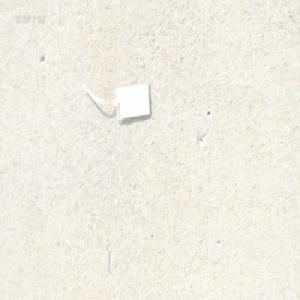LuggageTag: (82, 71, 153, 125)
